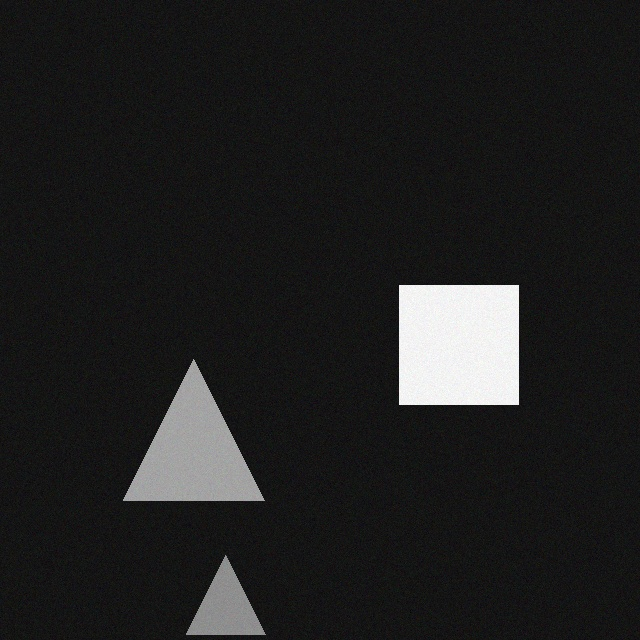square: (388, 276, 507, 395)
triangle: (112, 350, 253, 491), (175, 546, 254, 625)
